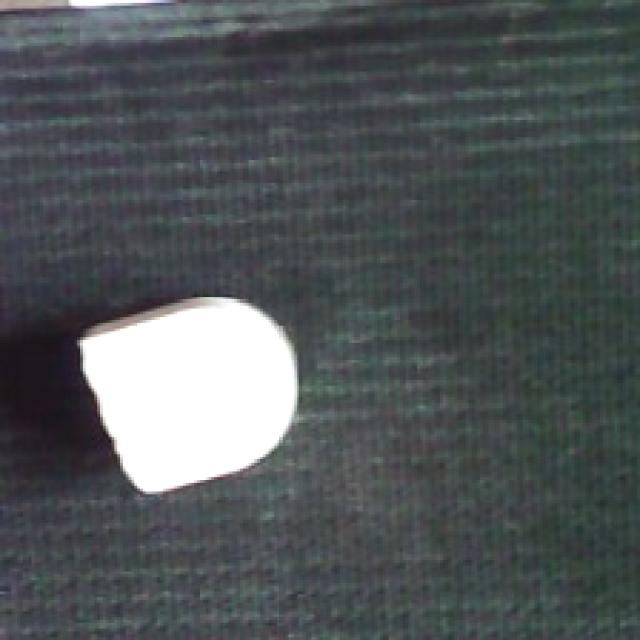defected: (71, 292, 306, 497)
